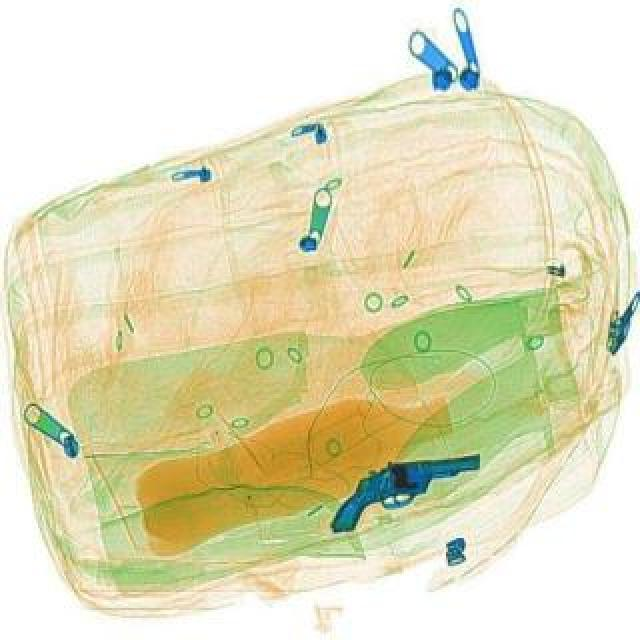gun: (312, 434, 492, 534)
